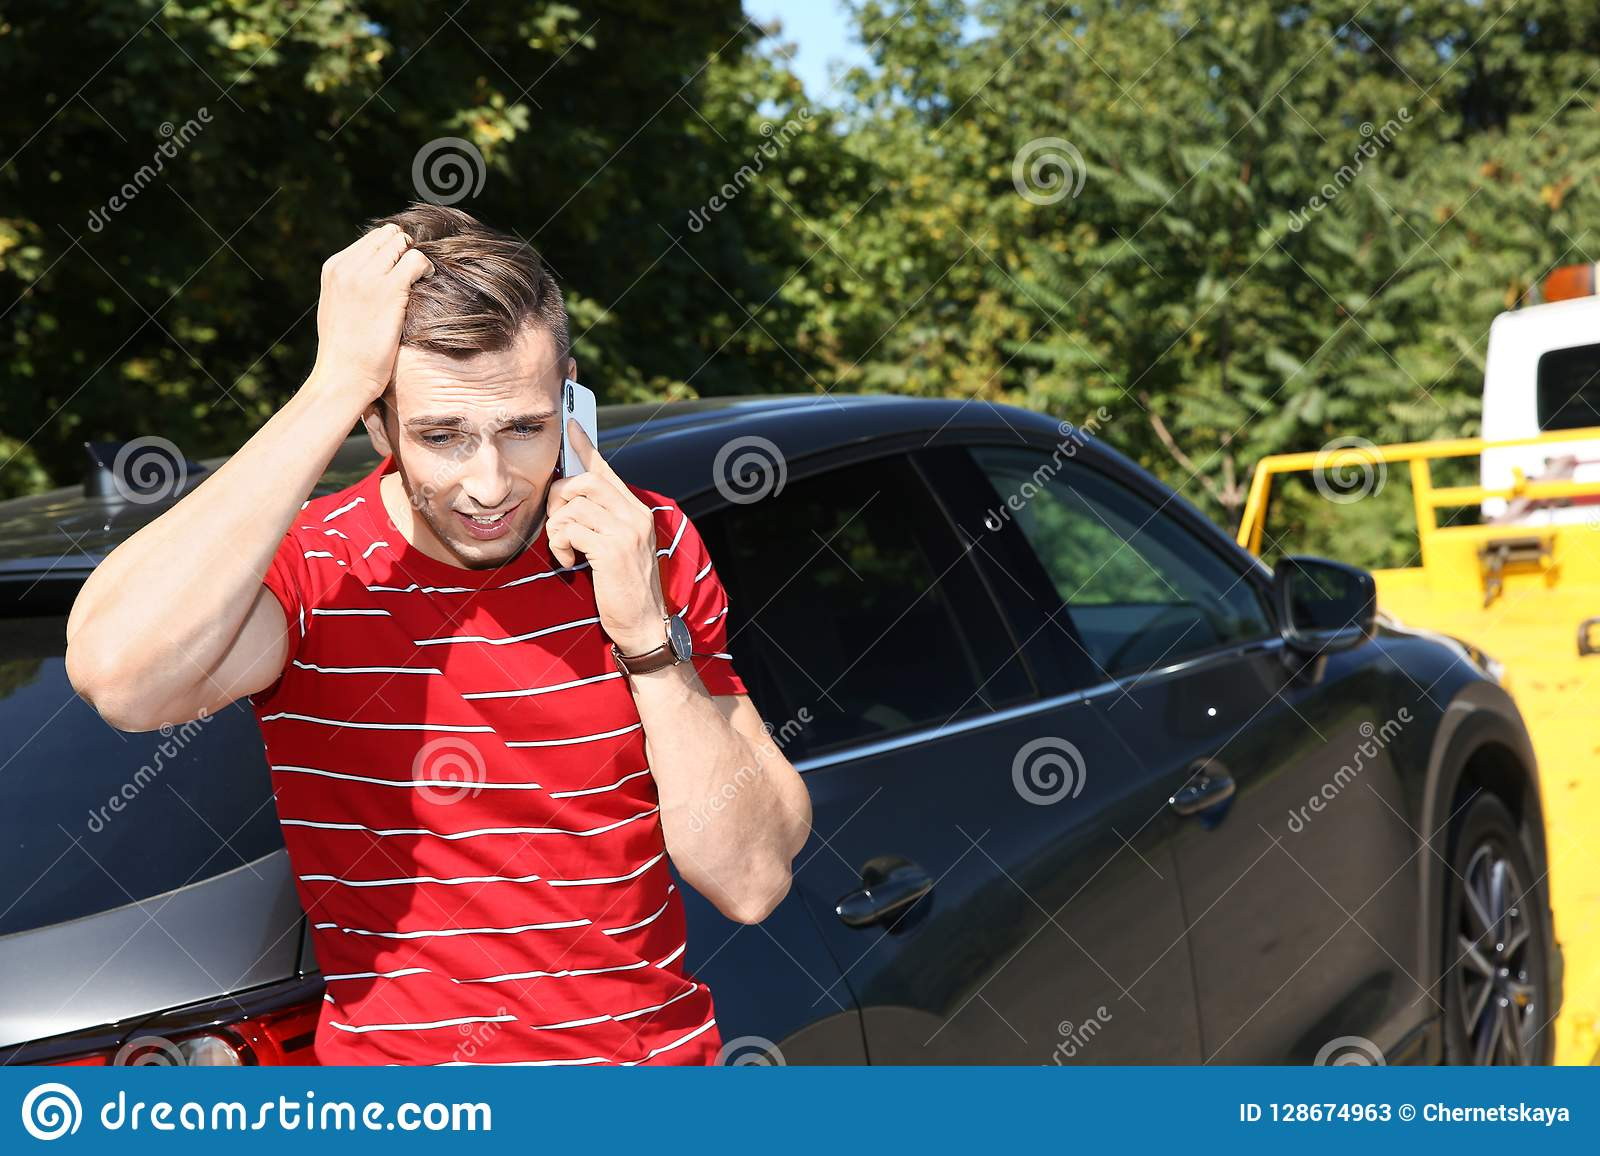phone: (561, 364, 602, 488)
talk: (405, 376, 667, 641)
